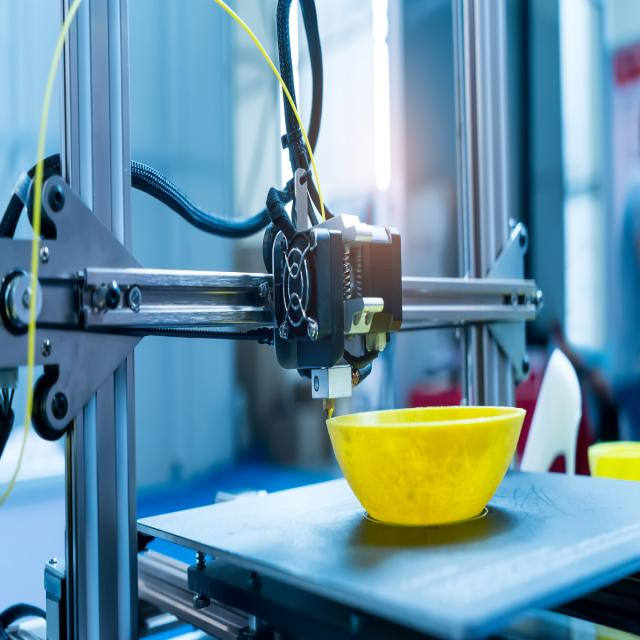Without deffect: (316, 408, 541, 539)
